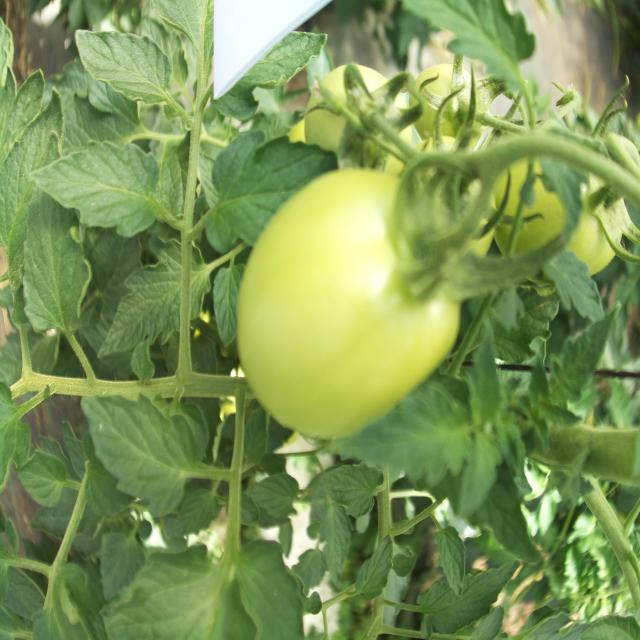unripe tomato: (212, 141, 476, 465)
